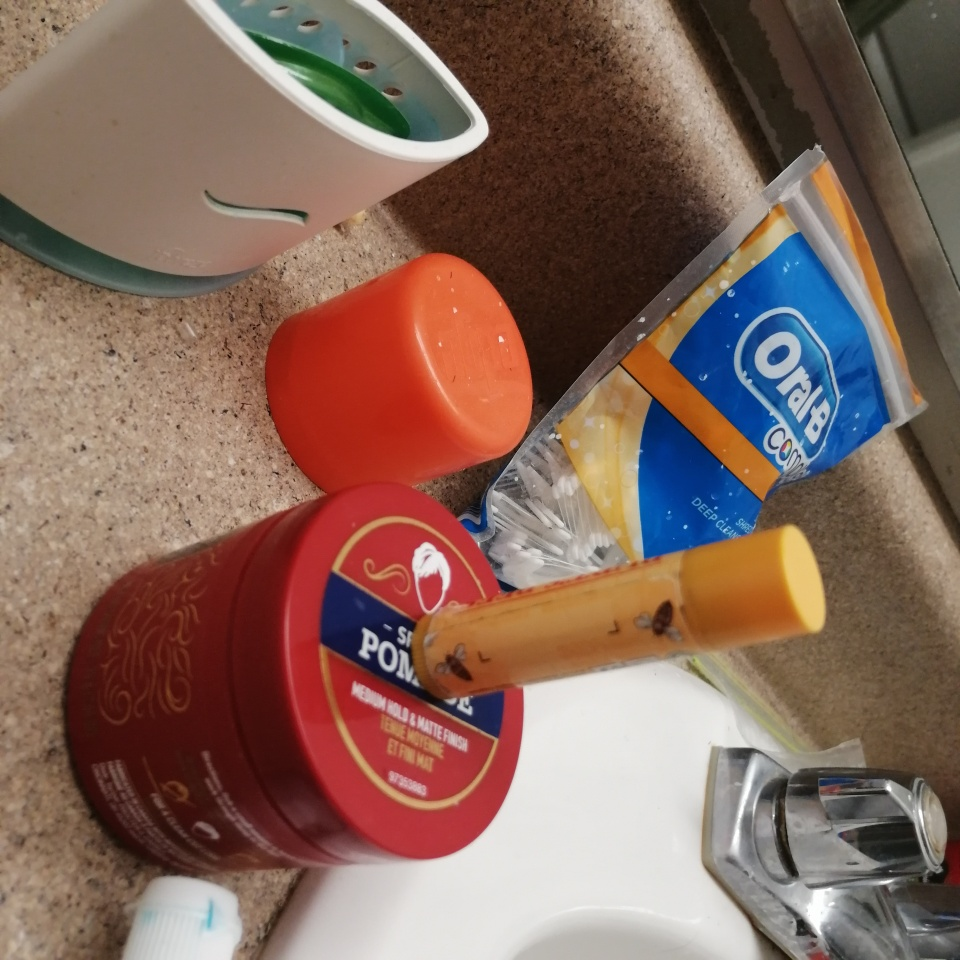chapstick: (411, 523, 829, 700)
